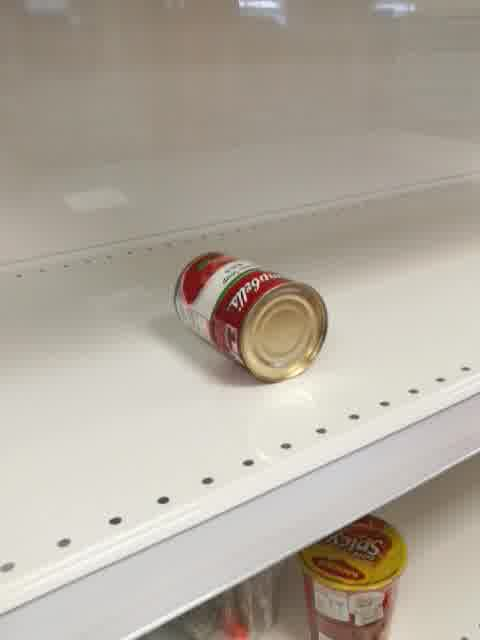tomatosoup: (171, 249, 329, 385)
